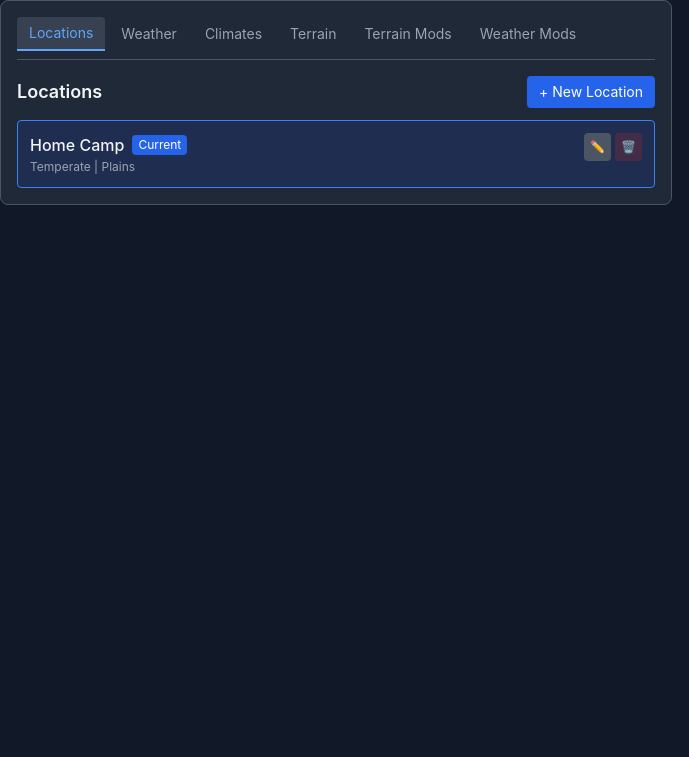
LocationManager router › switches into edit view from a location card
Click the button titled "Edit location" at point(598, 147), box [584, 133, 611, 161]
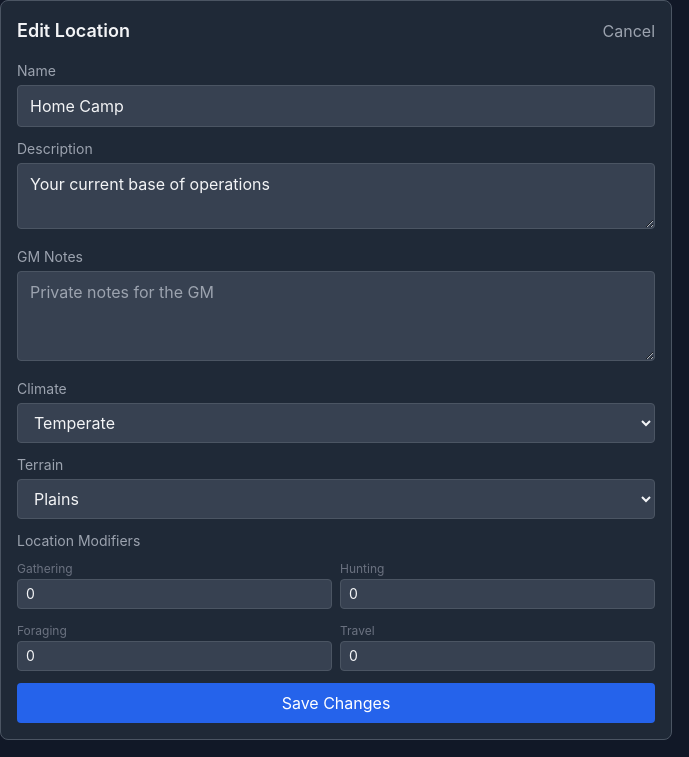
Result: the heading "Edit Location" is shown at [17, 17, 130, 45]
Result: the field showing "Home Camp" is shown at [17, 85, 655, 127]
